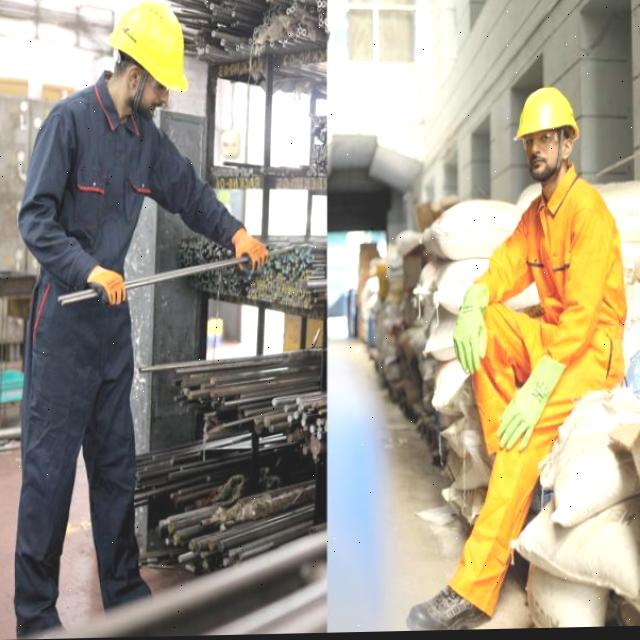Gloves: (495, 355, 568, 455), (453, 285, 491, 377), (87, 264, 128, 307), (232, 228, 270, 272)
Helmet: (110, 0, 189, 95), (514, 88, 581, 144)
Safety-Boot: (406, 584, 492, 633)
